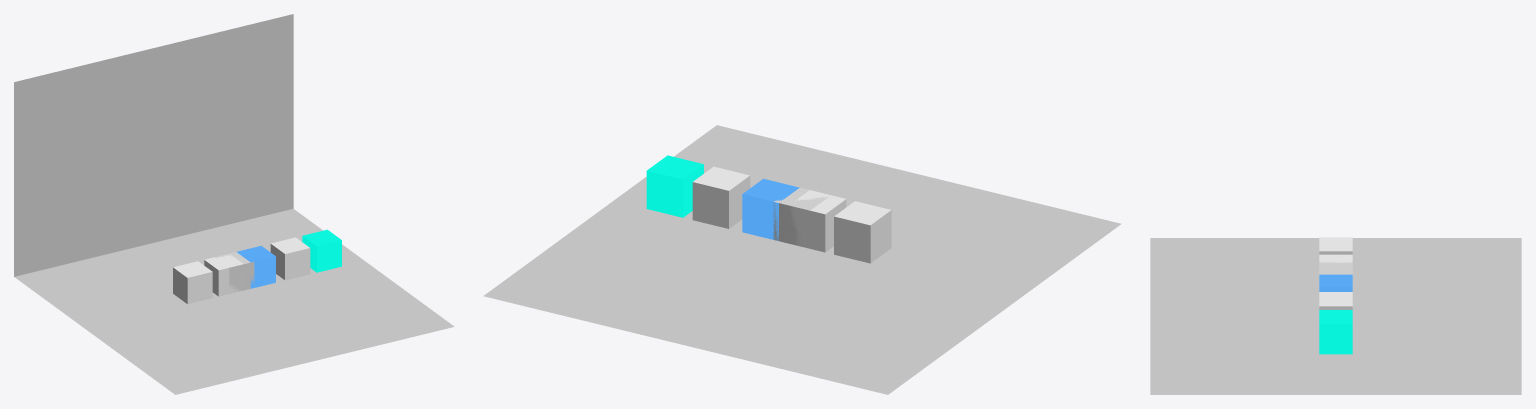
File: rob.glb
3 renders of one model, left to right at view 1: azimuth 30°, elevation 25°; view 2: azimuth 150°, elevation 25°; view 3: azimuth 270°, elevation 25°, orthographic. The views are drawn at different scales.
Parts seen in each view (by area): view 1: 平面, Cube.001, Cube.004, Cube.005, Cube.003, Cube.002, Cube; view 2: 平面, Cube.001, Cube.004, Cube.005, Cube.002, Cube.003, Cube; view 3: 平面, Cube.005, Cube.001, Cube.003, Cube.004, Cube.
Part boxes in pixels (x1=…): 平面: x1=14, y1=14, x2=454, y2=394; Cube.001: x1=173, y1=261, x2=212, y2=304; Cube.004: x1=270, y1=237, x2=310, y2=280; Cube.005: x1=302, y1=229, x2=341, y2=272; Cube.003: x1=237, y1=245, x2=275, y2=288; Cube.002: x1=204, y1=254, x2=243, y2=296; Cube: x1=215, y1=252, x2=254, y2=291; 平面: x1=483, y1=125, x2=1121, y2=394; Cube.001: x1=834, y1=201, x2=891, y2=263; Cube.004: x1=692, y1=166, x2=750, y2=228; Cube.005: x1=646, y1=155, x2=703, y2=217; Cube.002: x1=789, y1=190, x2=846, y2=252; Cube.003: x1=742, y1=178, x2=799, y2=240; Cube: x1=773, y1=187, x2=828, y2=246; 平面: x1=1150, y1=238, x2=1521, y2=394; Cube.005: x1=1319, y1=310, x2=1352, y2=354; Cube.001: x1=1319, y1=237, x2=1352, y2=254; Cube.003: x1=1319, y1=274, x2=1352, y2=291; Cube.004: x1=1319, y1=292, x2=1352, y2=309; Cube: x1=1319, y1=262, x2=1352, y2=274.
Size of the model in its own units: 22.19 by 14.78 by 22.19.
